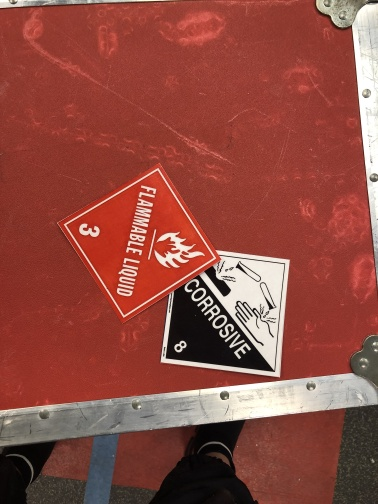Corrosive: (160, 249, 292, 379)
FlammableLiquid: (58, 163, 225, 323)
